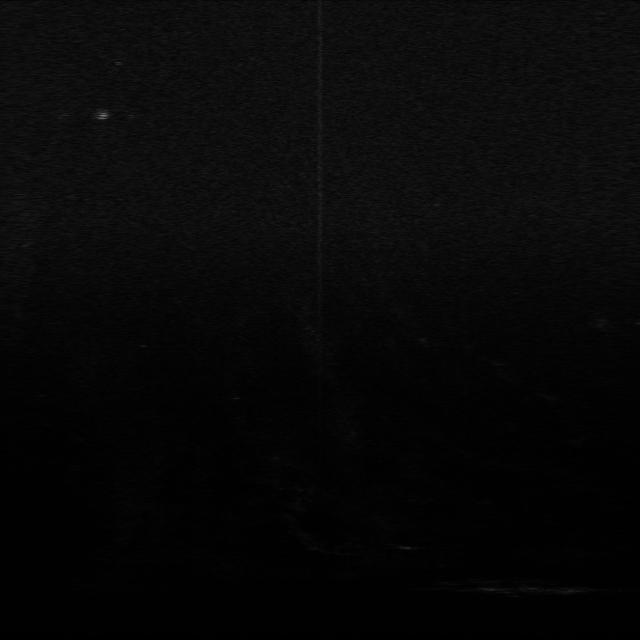rov: (88, 104, 114, 127)
